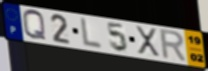2: (49, 14, 72, 46)
5: (105, 21, 129, 53)
L: (79, 16, 104, 51)
Q: (22, 9, 49, 42)
R: (159, 28, 189, 64)
X: (134, 25, 162, 60)
